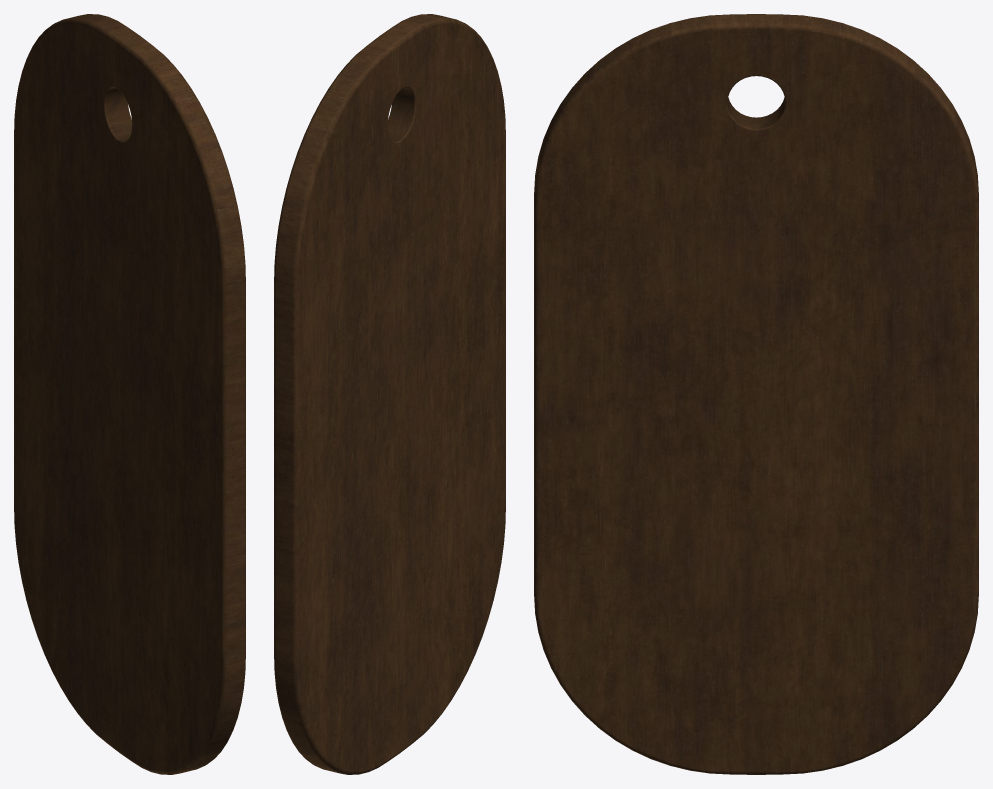
The model's file is board.glb.
The picture shows the model from 3 angles, left to right: view 1: azimuth 30°, elevation 25°; view 2: azimuth 150°, elevation 25°; view 3: azimuth 270°, elevation 25°; orthographic projection. The views are drawn at different scales.
Parts seen in each view (by area): view 1: board; view 2: board; view 3: board.
Part boxes in pixels (x1=…): board: x1=14, y1=14, x2=245, y2=774; board: x1=274, y1=14, x2=505, y2=774; board: x1=534, y1=14, x2=978, y2=774.
Bounding box in the file's own units: 0.0143 × 0.4 × 0.2145.
1 material, 1 textured.
